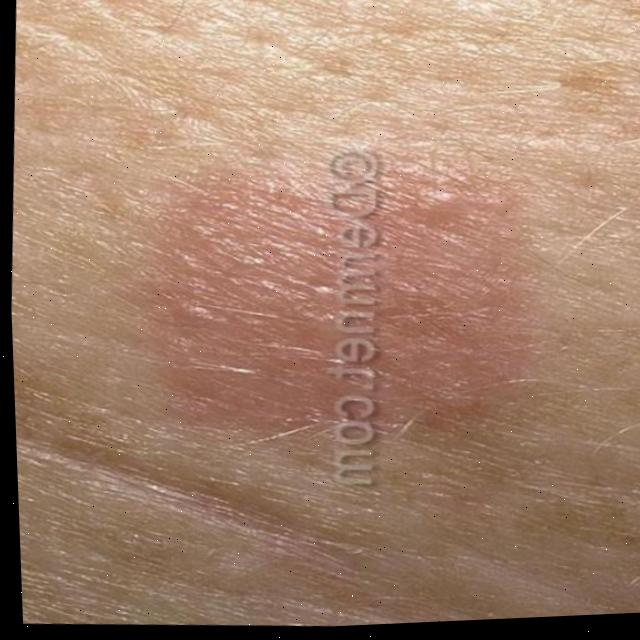Eczema: (148, 156, 489, 435)
